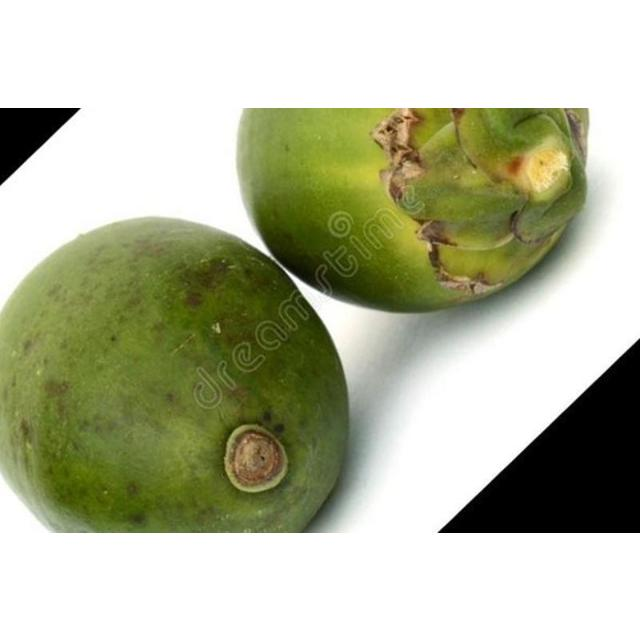good: (0, 216, 350, 532), (235, 107, 588, 314)
